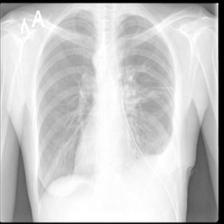tuberculosis: (32, 3, 183, 208)
